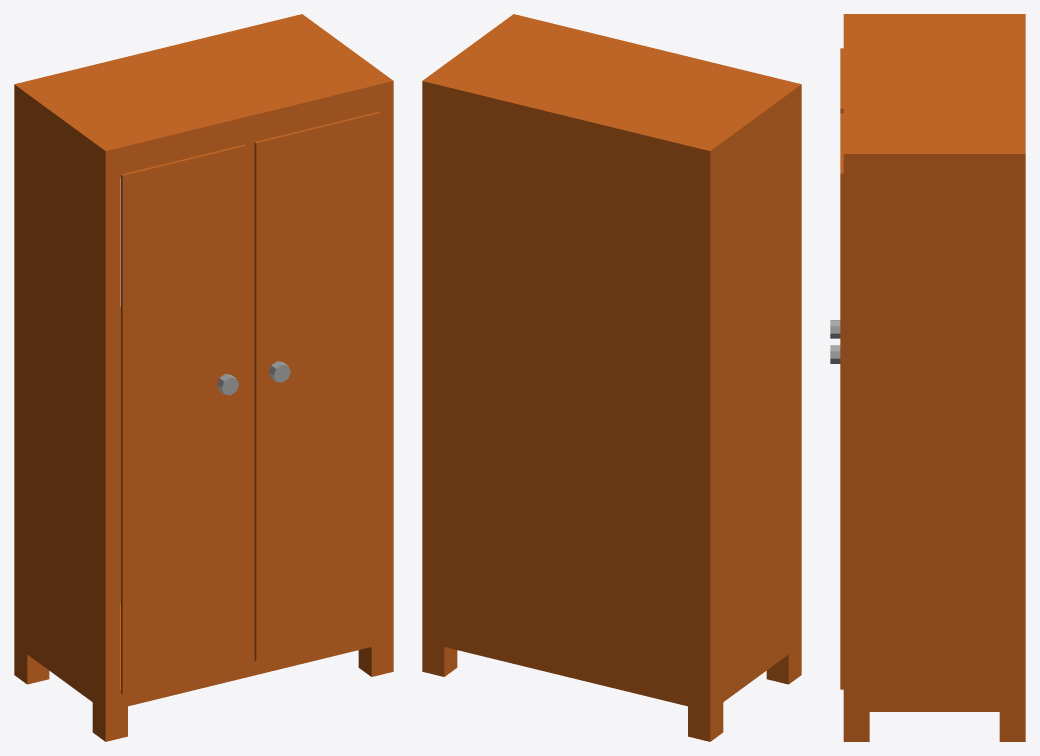
Rendered from SM_Ropero.glb.
The picture shows the model from 3 angles, left to right: view 1: azimuth 30°, elevation 25°; view 2: azimuth 150°, elevation 25°; view 3: azimuth 270°, elevation 25°; orthographic projection.
Visible parts, largest first — view 1: SM_HojaDer, SM_HojaIzq, SM_Izq, SM_Sup, SM_Frente, SM_Base, SM_Atras; view 2: SM_Atras, SM_Izq, SM_Sup, SM_Base, SM_Frente; view 3: SM_Der, SM_Sup, SM_Base, SM_Frente, SM_Atras, SM_HojaDer.
Part boxes in pixels (bbox=[...]): SM_HojaDer: bbox=[254, 112, 380, 661]; SM_HojaIzq: bbox=[121, 144, 246, 694]; SM_Izq: bbox=[17, 99, 102, 690]; SM_Sup: bbox=[14, 14, 393, 162]; SM_Frente: bbox=[102, 93, 393, 693]; SM_Base: bbox=[14, 604, 393, 741]; SM_Atras: bbox=[14, 96, 120, 628]; SM_Atras: bbox=[422, 93, 713, 693]; SM_Izq: bbox=[713, 99, 798, 690]; SM_Sup: bbox=[422, 14, 801, 162]; SM_Base: bbox=[422, 623, 801, 741]; SM_Frente: bbox=[798, 96, 801, 628]; SM_Der: bbox=[850, 166, 1018, 693]; SM_Sup: bbox=[843, 14, 1025, 165]; SM_Base: bbox=[843, 694, 1025, 741]; SM_Frente: bbox=[843, 166, 850, 693]; SM_Atras: bbox=[1019, 166, 1025, 693]; SM_HojaDer: bbox=[840, 113, 843, 689].
Bounding box in the file's own units: 1 × 1.96 × 0.59.
